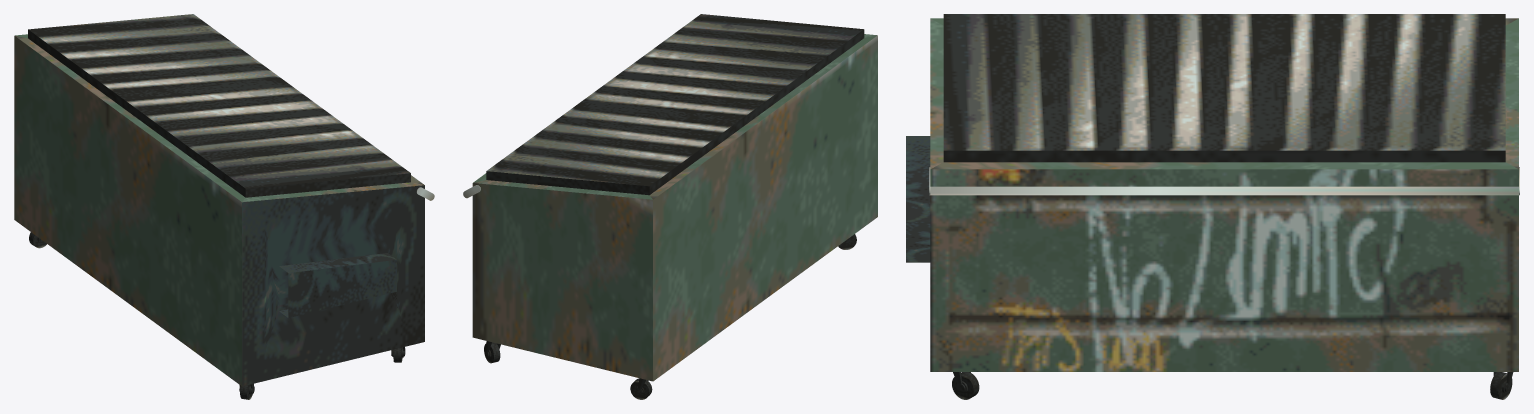
The model's file is Dustbeen2.fbx.
3 renders of one model, left to right at view 1: azimuth 30°, elevation 25°; view 2: azimuth 150°, elevation 25°; view 3: azimuth 270°, elevation 25°, orthographic. The views are drawn at different scales.
Visible parts, largest first — view 1: Trash Box.001; view 2: Trash Box.001; view 3: Trash Box.001.
Part boxes in pixels (x1,y1,x2,y2): Trash Box.001: (14,14,434,399); Trash Box.001: (463,14,877,399); Trash Box.001: (906,14,1519,399).
Size of the model in its own units: 922 by 430 by 468.
